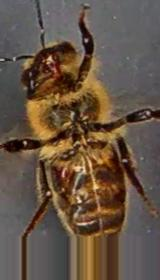varroa_mite: (38, 161, 82, 194)
